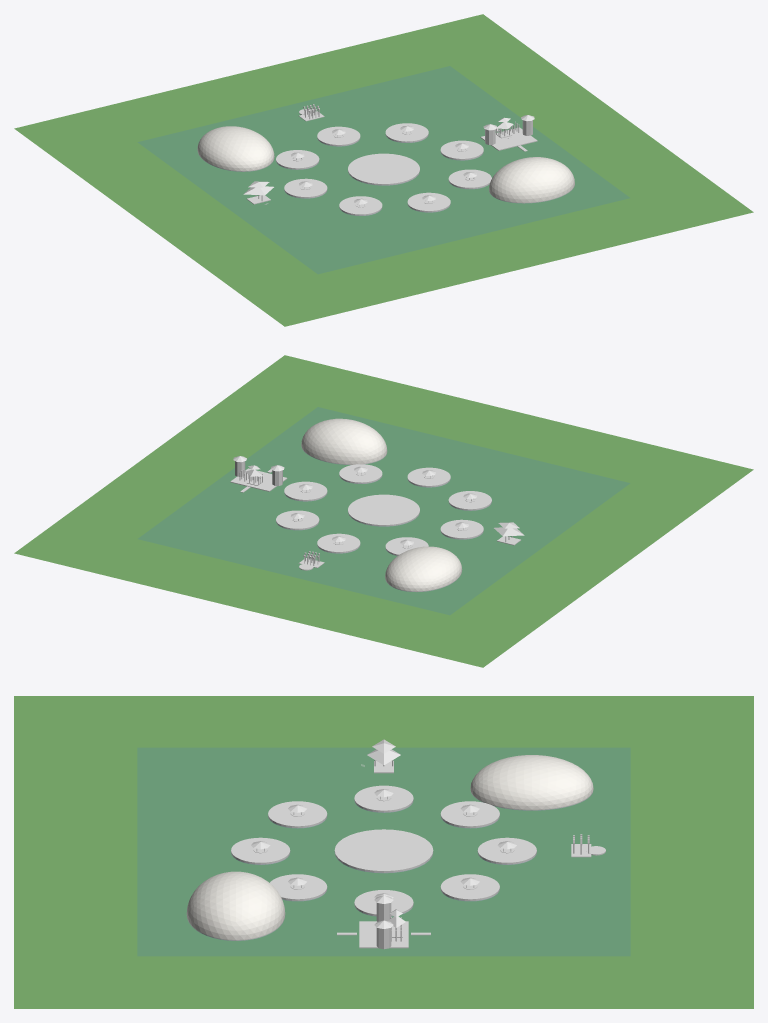
File: yuanmingyuan.glb
3 views of the same model, one above another, from view 1: azimuth 30°, elevation 25°; view 2: azimuth 150°, elevation 25°; view 3: azimuth 270°, elevation 25° (orthographic). The views are drawn at different scales.
Parts seen in each view (by area): view 1: Ground, Lake, Mountain_0, Mountain_1, Jiuzhou_Center_Island, Jiuzhou_E_Island, Jiuzhou_N_Island, Jiuzhou_S_Island, Jiuzhou_SE_Island, Jiuzhou_W_Island, Jiuzhou_NE_Island, Jiuzhou_NW_Island (+2 smaller); view 2: Ground, Lake, Mountain_0, Mountain_1, Jiuzhou_Center_Island, Jiuzhou_E_Island, Jiuzhou_S_Island, Jiuzhou_NE_Island, Jiuzhou_N_Island, Jiuzhou_W_Island, Jiuzhou_SE_Island, Jiuzhou_SW_Island; view 3: Ground, Lake, Mountain_1, Mountain_0, Jiuzhou_Center_Island, Jiuzhou_W_Island, Jiuzhou_NE_Island, Jiuzhou_NW_Island, Jiuzhou_SW_Island, Jiuzhou_N_Island, Jiuzhou_S_Island, Jiuzhou_SE_Island (+2 smaller).
Part boxes in pixels (x1,y1,x2,y2): Ground: (14,14,753,326); Lake: (138,66,629,273); Mountain_0: (489,157,574,203); Mountain_1: (197,126,274,171); Jiuzhou_Center_Island: (348,153,419,185); Jiuzhou_E_Island: (440,140,483,160); Jiuzhou_N_Island: (317,126,360,146); Jiuzhou_S_Island: (407,192,450,212); Jiuzhou_SE_Island: (448,169,491,189); Jiuzhou_W_Island: (284,178,327,198); Jiuzhou_NE_Island: (385,123,428,142); Jiuzhou_NW_Island: (276,150,319,169); Ground: (14,355,753,667); Lake: (138,407,629,614); Mountain_0: (301,418,387,465); Mountain_1: (385,546,462,592); Jiuzhou_Center_Island: (348,494,419,526); Jiuzhou_E_Island: (284,481,327,501); Jiuzhou_S_Island: (407,467,450,487); Jiuzhou_NE_Island: (276,510,319,530); Jiuzhou_N_Island: (317,533,360,553); Jiuzhou_W_Island: (440,519,483,539); Jiuzhou_SE_Island: (339,464,382,483); Jiuzhou_SW_Island: (448,491,491,510); Ground: (14,696,753,1008); Lake: (137,748,630,955); Mountain_1: (470,755,593,810); Mountain_0: (186,871,285,940); Jiuzhou_Center_Island: (334,829,433,873); Jiuzhou_W_Island: (354,785,413,812); Jiuzhou_NE_Island: (440,874,499,901); Jiuzhou_NW_Island: (440,801,499,828); Jiuzhou_SW_Island: (268,801,327,828); Jiuzhou_N_Island: (477,837,536,864); Jiuzhou_S_Island: (231,837,290,864); Jiuzhou_SE_Island: (270,874,327,901).
Bounding box in the file's own units: 300 × 30 × 300.
